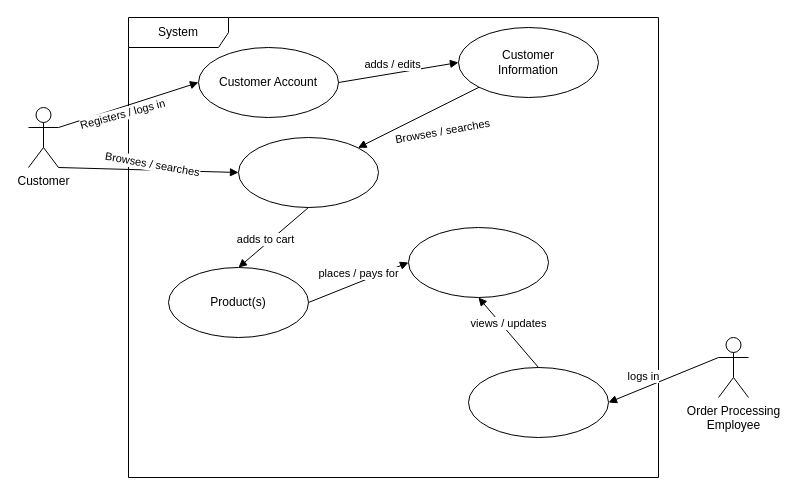
The diagram is 797 pixels wide and 495 high, and some of its shapes have lost their labels. The centre of each missing label's shape, as x and y in pixels:
"Admin Account" goes at (538,402).
"Order(s)" goes at (478,262).
"Product catalog" goes at (308,172).
